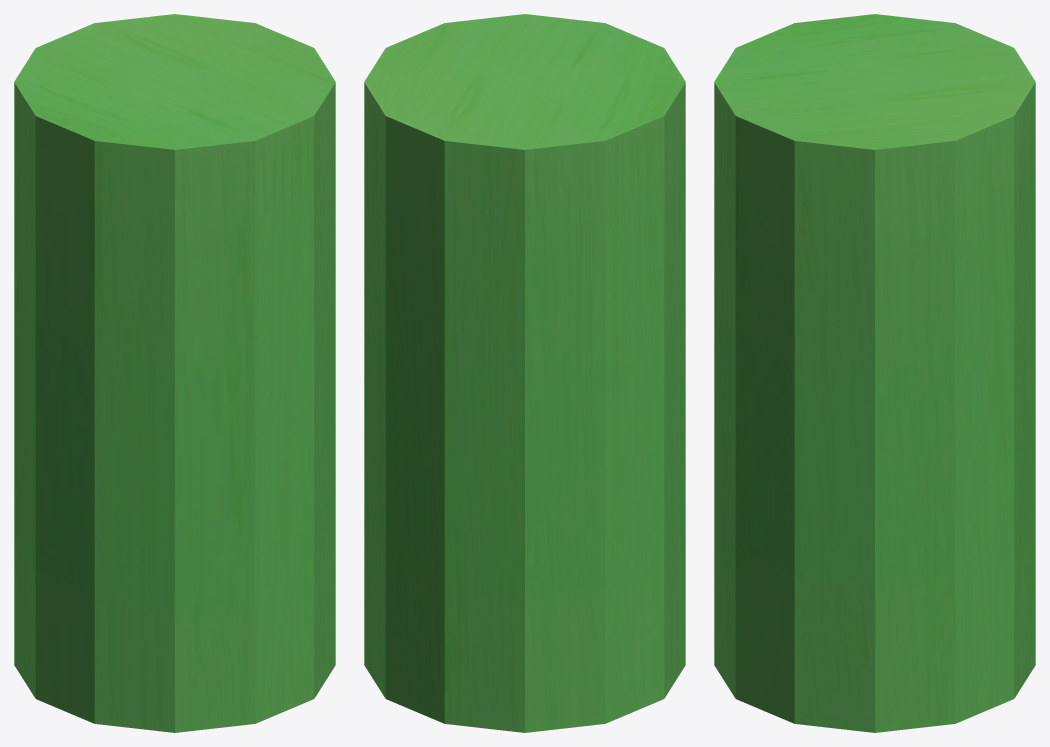
The model's file is CylinderBlock_Green.fbx.
3 views of the same model, side by side, from view 1: azimuth 30°, elevation 25°; view 2: azimuth 150°, elevation 25°; view 3: azimuth 270°, elevation 25° (orthographic).
Visible parts, largest first — view 1: Cylinder.001; view 2: Cylinder.001; view 3: Cylinder.001.
Part boxes in pixels (<box>): Cylinder.001: <box>14,14,335,732</box>; Cylinder.001: <box>364,14,685,732</box>; Cylinder.001: <box>714,14,1035,732</box>.
Size of the model in its own units: 100 by 200 by 100.
